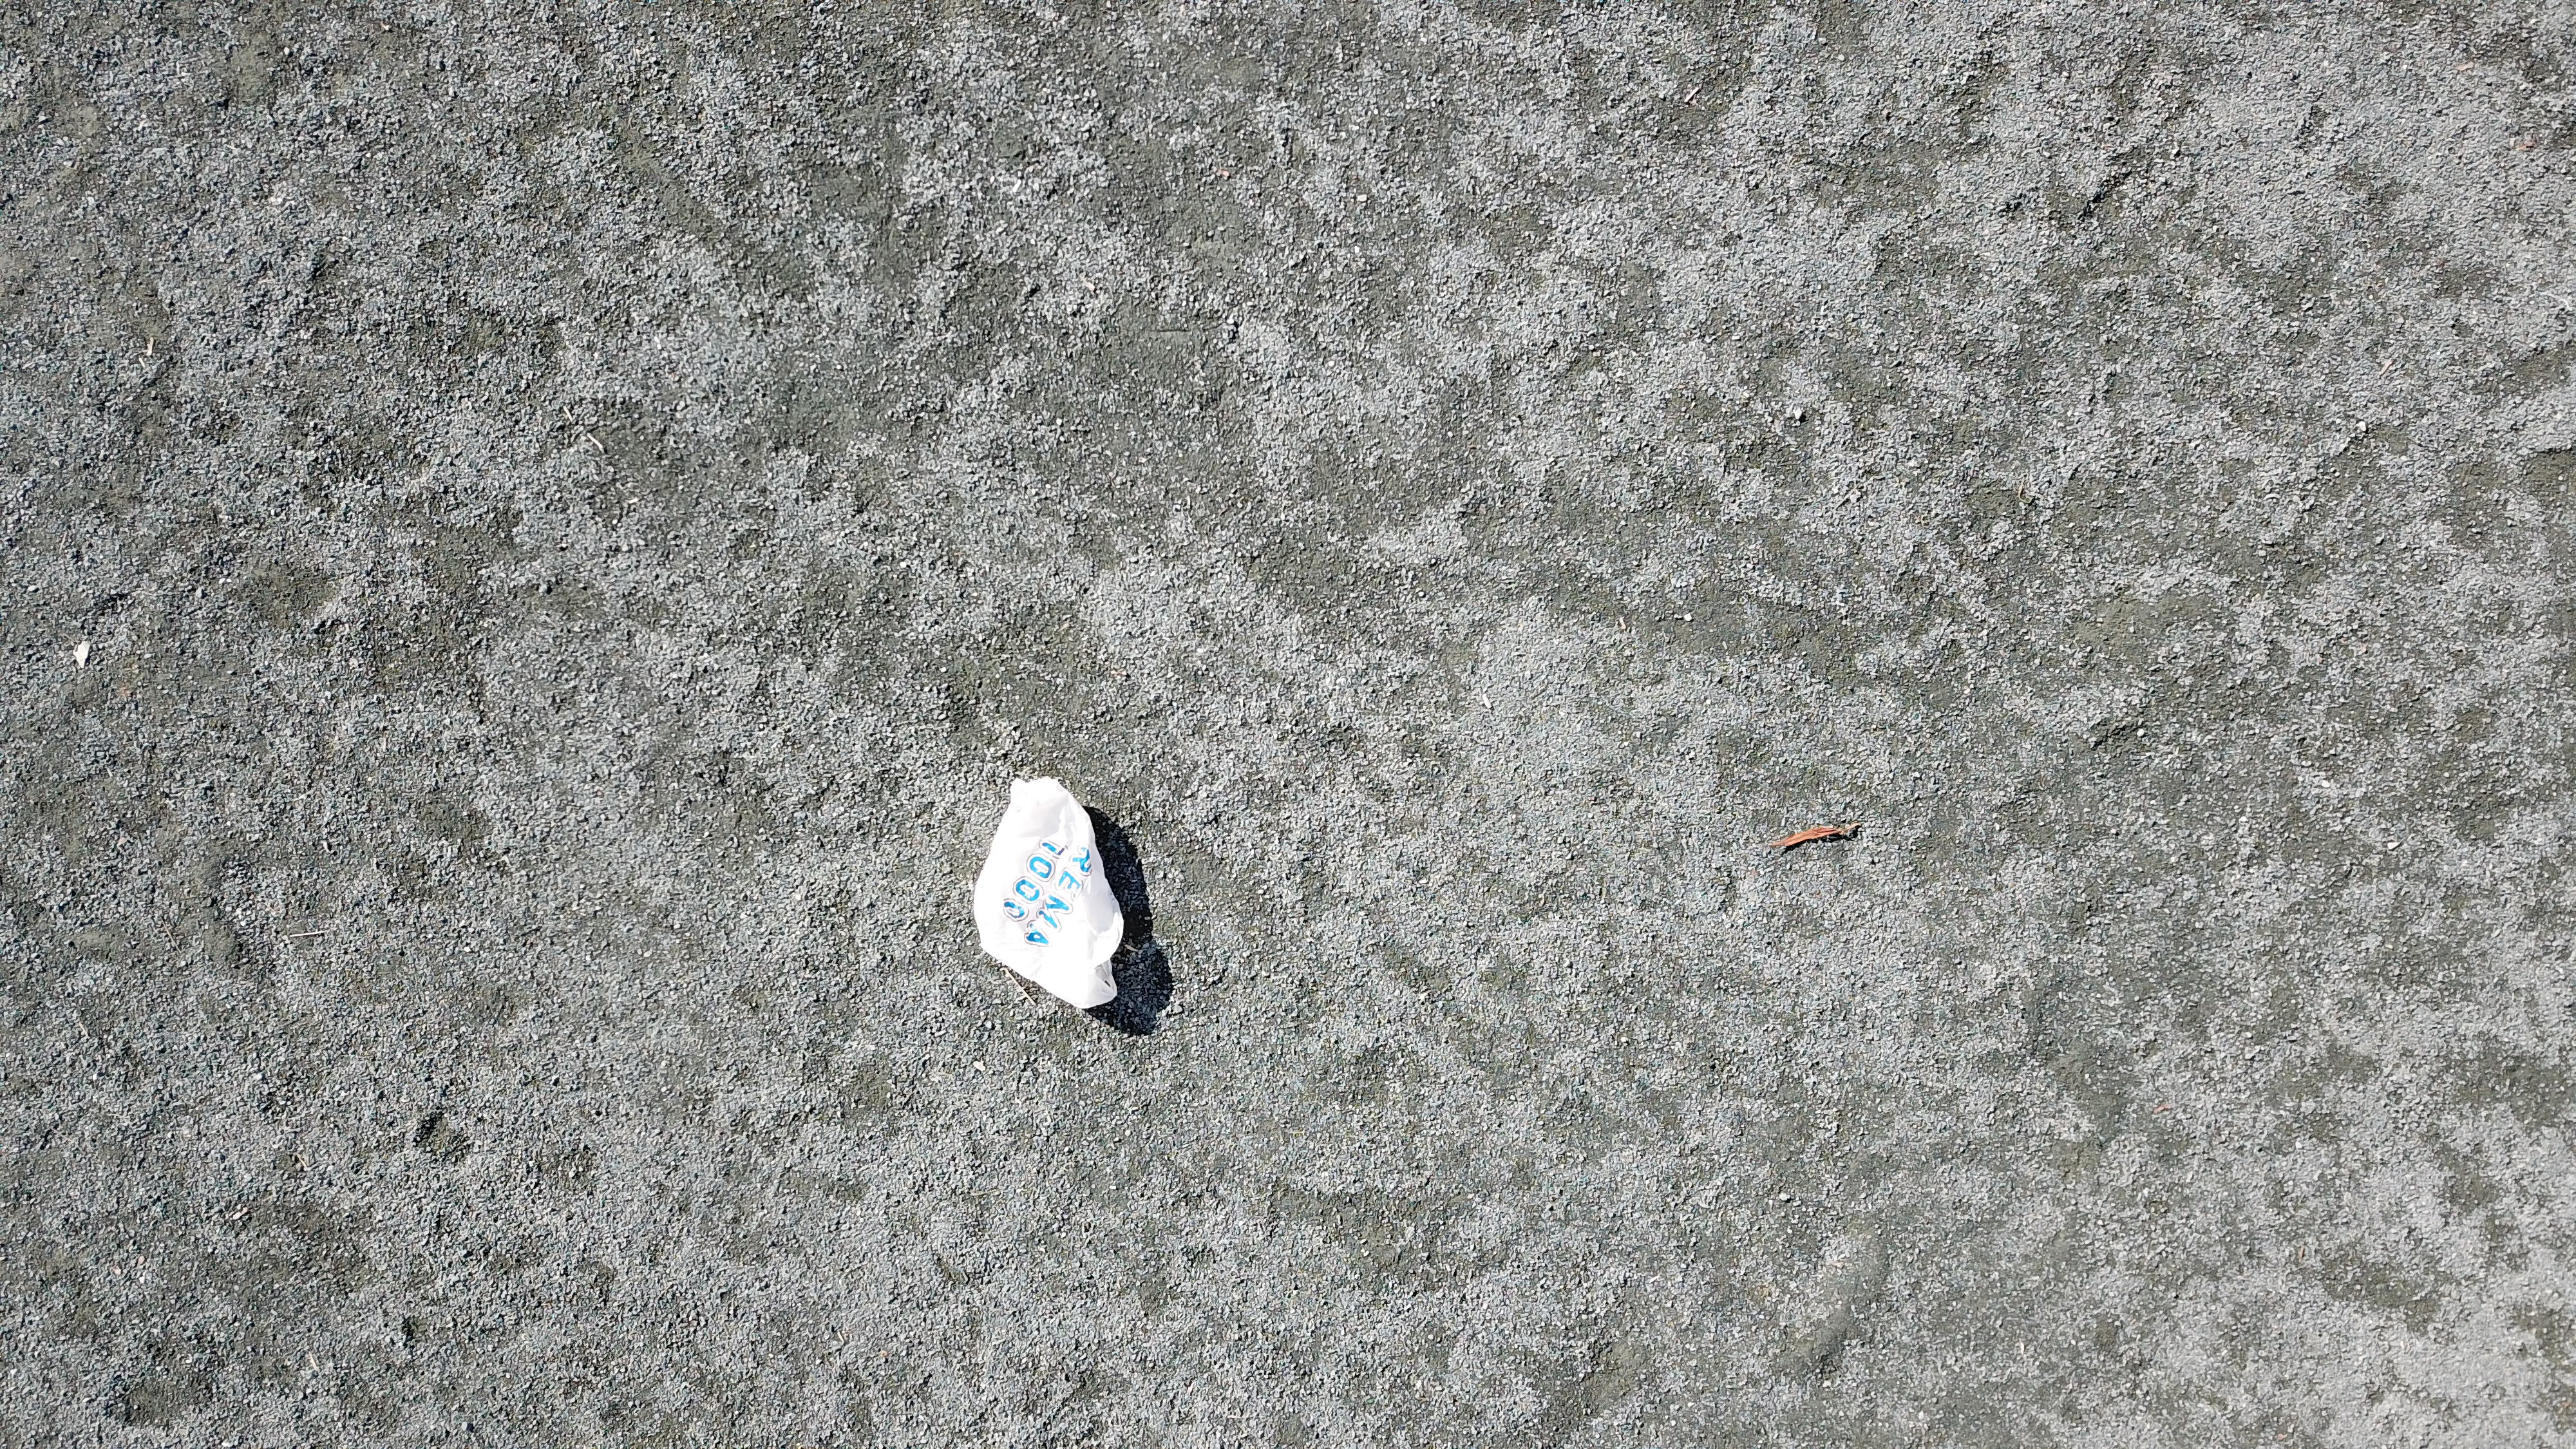Plastic: (978, 775, 1123, 1008)
